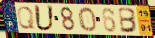6: (101, 7, 117, 34)
8: (60, 5, 77, 33)
B: (117, 7, 139, 34)
O: (77, 7, 98, 33)
Q: (16, 5, 36, 30)
U: (33, 4, 56, 33)
